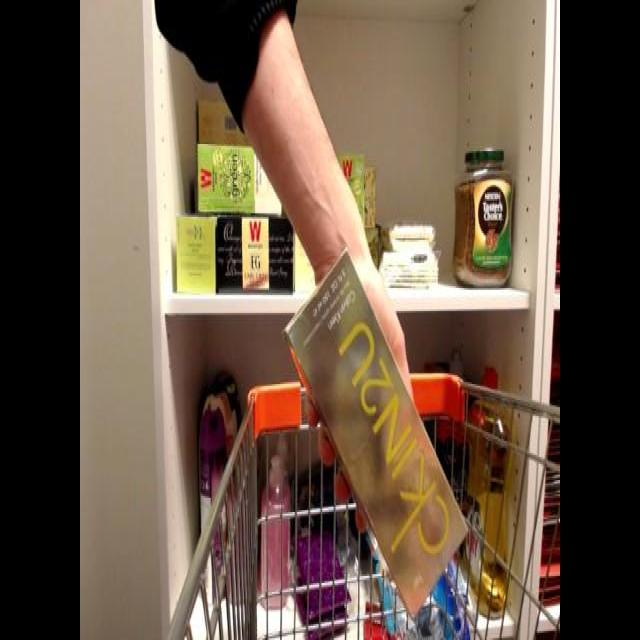Calvin Klein: (268, 256, 472, 620)
